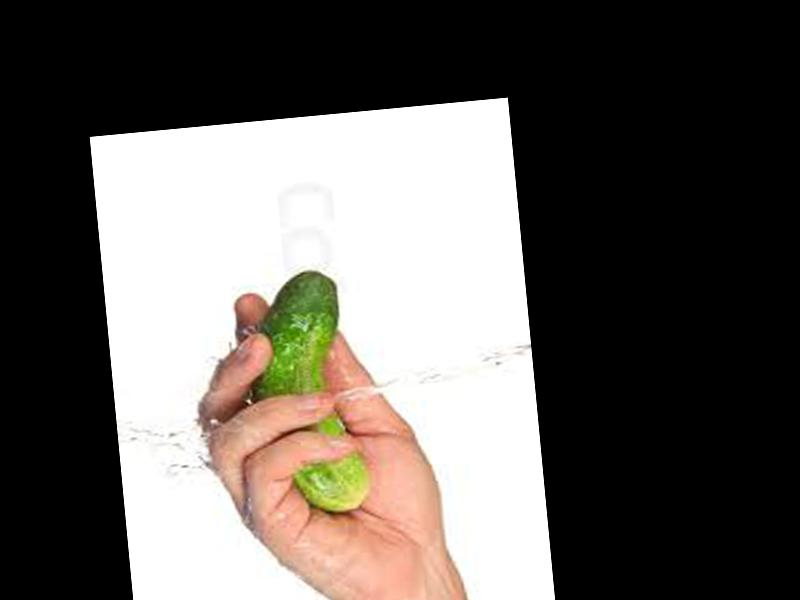Cucumber: (247, 266, 368, 517)
